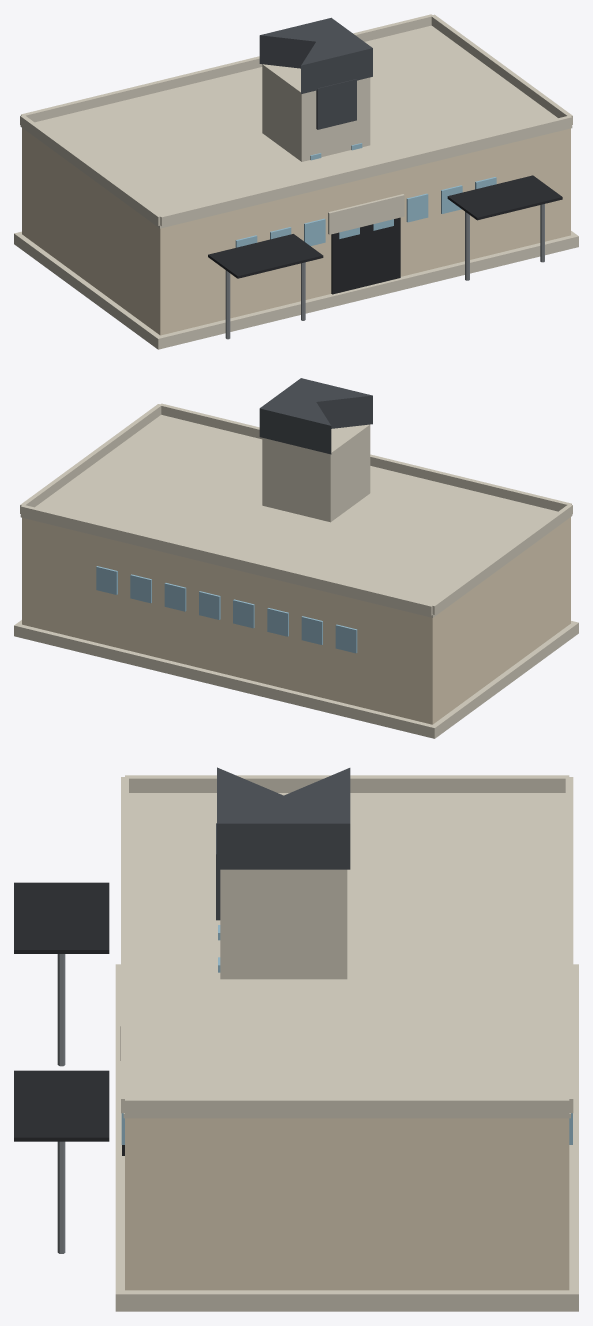
File: building.train-station.glb
3 views of the same model, one above another, from view 1: azimuth 30°, elevation 25°; view 2: azimuth 150°, elevation 25°; view 3: azimuth 270°, elevation 25° (orthographic). The views are drawn at different scales.
Parts seen in each view (by area): view 1: building.train-station; view 2: building.train-station; view 3: building.train-station.
Boxes of the visible parts, x1=… form: building.train-station: x1=14, y1=14, x2=578, y2=349; building.train-station: x1=14, y1=378, x2=578, y2=738; building.train-station: x1=14, y1=767, x2=578, y2=1311.
Size of the model in its own units: 24.6 by 12.2 by 17.8.
